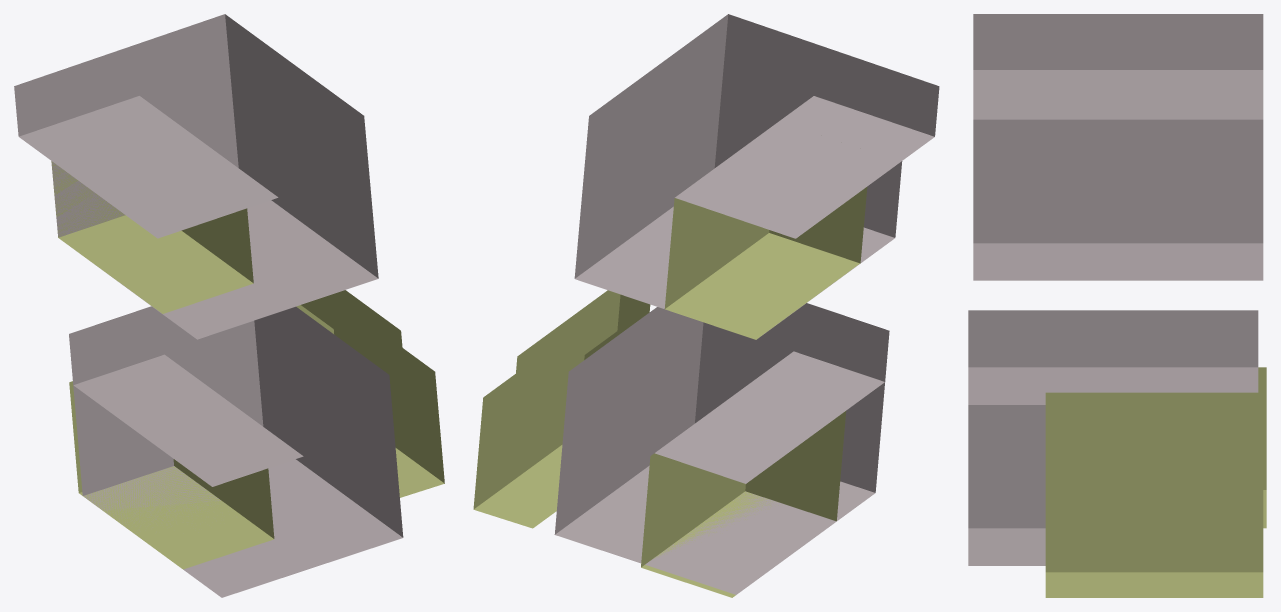
The picture shows the model from 3 angles, left to right: view 1: azimuth 30°, elevation 25°; view 2: azimuth 150°, elevation 25°; view 3: azimuth 270°, elevation 25°; orthographic projection. The views are drawn at different scales.
Parts seen in each view (by area): view 1: 0_2_3_3_3_1_0_2_0_3; view 2: 0_2_3_3_3_1_0_2_0_3; view 3: 0_2_3_3_3_1_0_2_0_3.
Part boxes in pixels (box(x1,y1,x2,y2)): 0_2_3_3_3_1_0_2_0_3: box(14, 14, 444, 597); 0_2_3_3_3_1_0_2_0_3: box(473, 14, 939, 597); 0_2_3_3_3_1_0_2_0_3: box(968, 14, 1266, 597).
Size of the model in its own units: 16.25 by 21.18 by 12.35.
